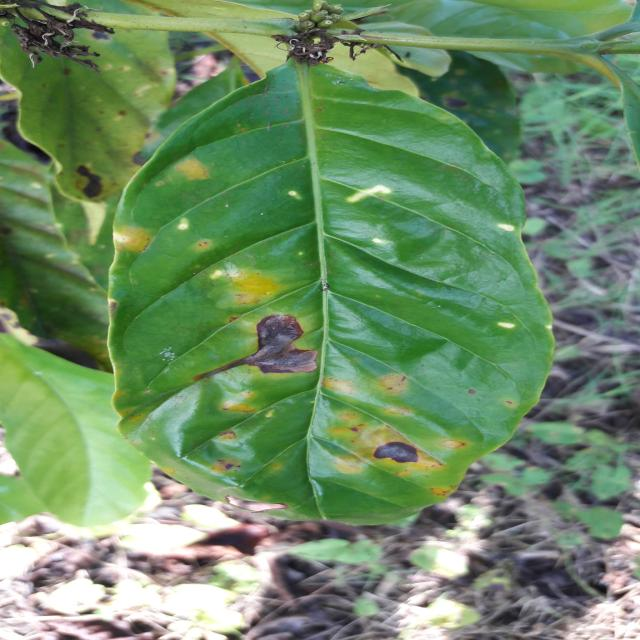Enfermedad-Roya: (105, 62, 557, 528)
